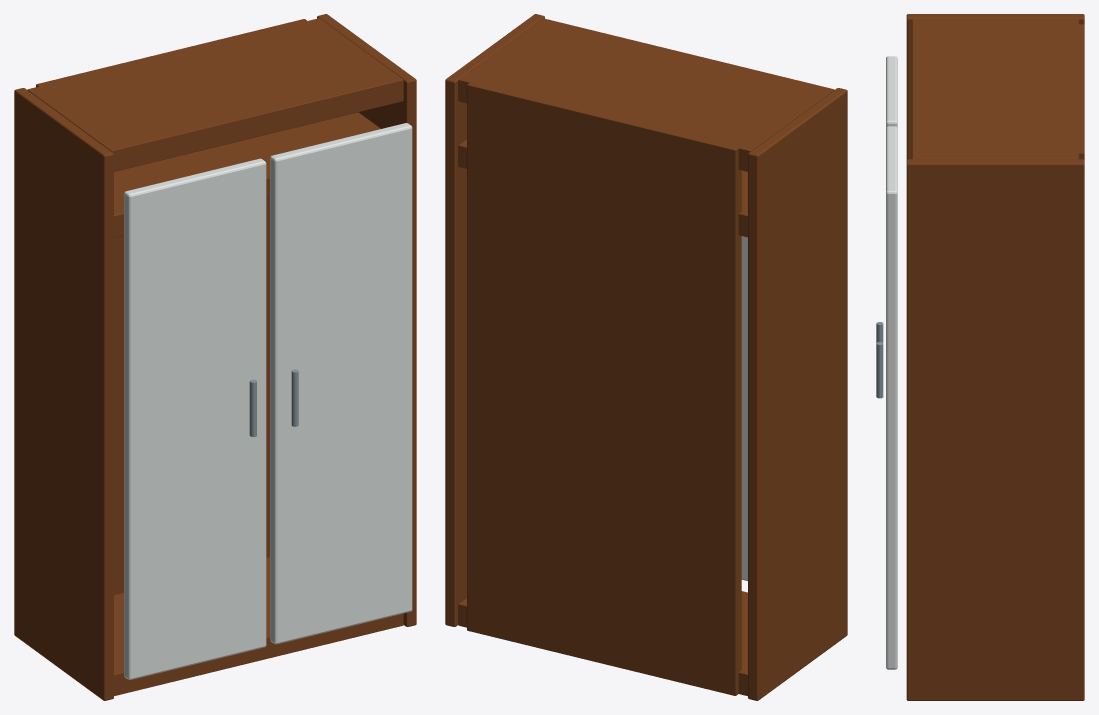
File: edited.glb
The picture shows the model from 3 angles, left to right: view 1: azimuth 30°, elevation 25°; view 2: azimuth 150°, elevation 25°; view 3: azimuth 270°, elevation 25°; orthographic projection.
Visible parts, largest first — view 1: DOOR_Panel.001, DOOR_Panel, BODY_Side.001, BODY_Shelf, BODY_Shelf.002, BODY_Back, BODY_Shelf.001, BODY_Side; view 2: BODY_Back, BODY_Side.001, BODY_Shelf, BODY_Side, DOOR_Panel, BODY_Shelf.001, BODY_Shelf.002; view 3: BODY_Side, BODY_Shelf, DOOR_Panel.001, BODY_Side.001, BODY_Back, DOOR_Panel, HANDLE.001.
Part boxes in pixels (x1,y1,x2,y2): DOOR_Panel.001: (270, 123, 412, 644); DOOR_Panel: (124, 158, 266, 679); BODY_Side.001: (14, 88, 113, 700); BODY_Shelf: (27, 18, 403, 171); BODY_Shelf.002: (114, 112, 380, 237); BODY_Back: (36, 19, 306, 594); BODY_Shelf.001: (114, 557, 403, 695); BODY_Side: (317, 14, 416, 626); BODY_Back: (467, 82, 741, 695); BODY_Side.001: (748, 88, 847, 700); BODY_Shelf: (458, 18, 834, 171); BODY_Side: (445, 14, 544, 626); DOOR_Panel: (741, 236, 747, 580); BODY_Shelf.001: (458, 591, 747, 695); BODY_Shelf.002: (458, 139, 747, 237); BODY_Side: (906, 159, 1084, 700); BODY_Shelf: (912, 18, 1078, 159); DOOR_Panel.001: (886, 126, 897, 669); BODY_Side.001: (906, 14, 1084, 159); BODY_Back: (1075, 24, 1084, 160); DOOR_Panel: (886, 56, 897, 127); HANDLE.001: (876, 342, 883, 398).
Bounding box in the file's own units: 1.2 × 2 × 0.702.
